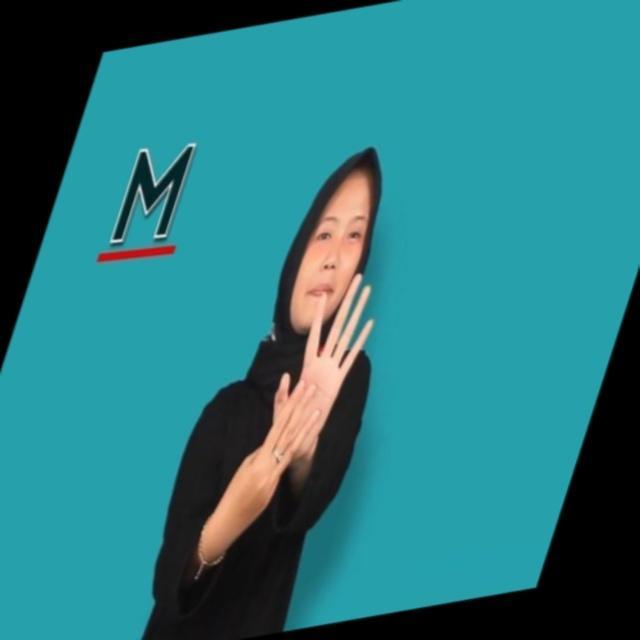M: (263, 270, 379, 479)
